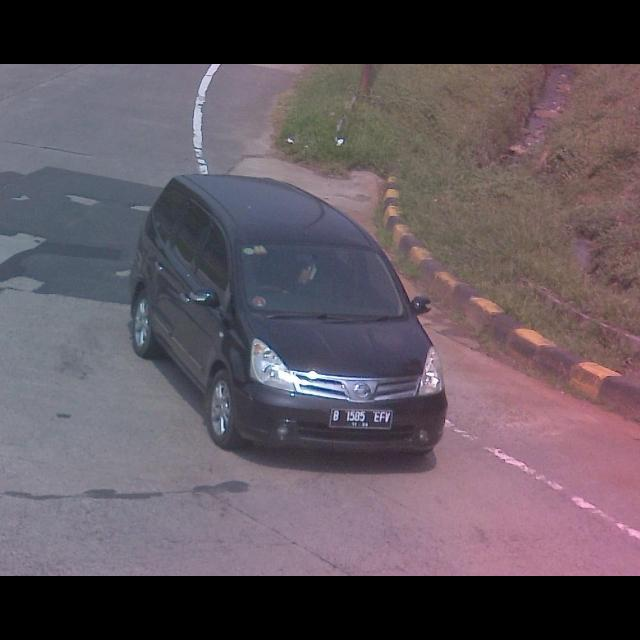plate: (328, 406, 394, 432)
